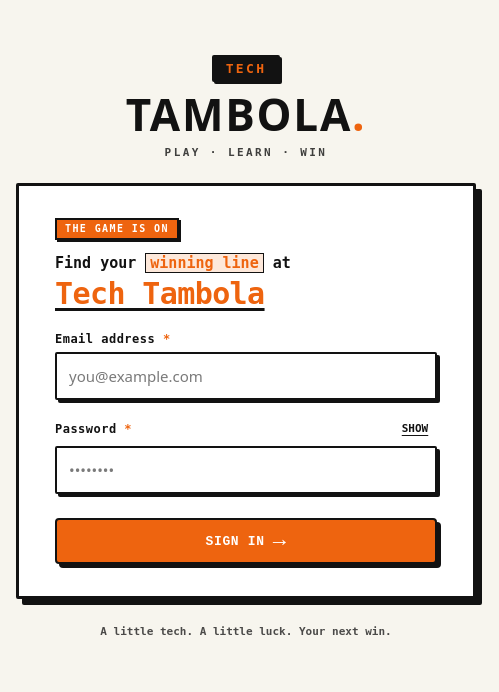
Test: LoginPage › shows a connection error when sign in cannot reach the server
In the field labelled "Email address *": (246, 376) x1=55 y1=352 x2=437 y2=400, type "attendee@example.test"
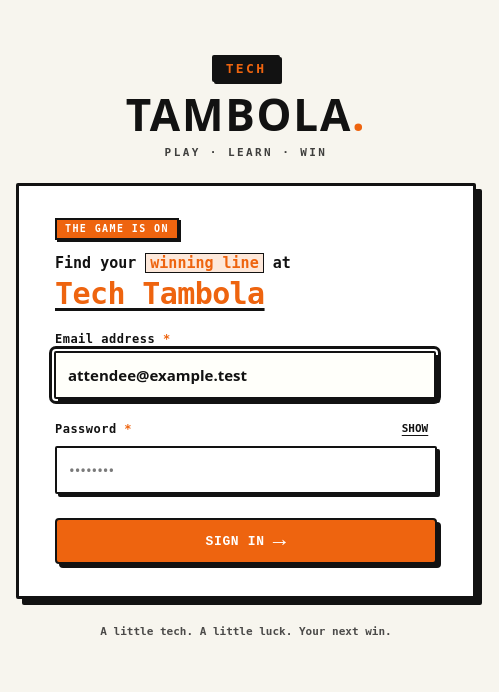
In the password field labelled "Password *": (246, 470) x1=55 y1=446 x2=437 y2=494, type "password"
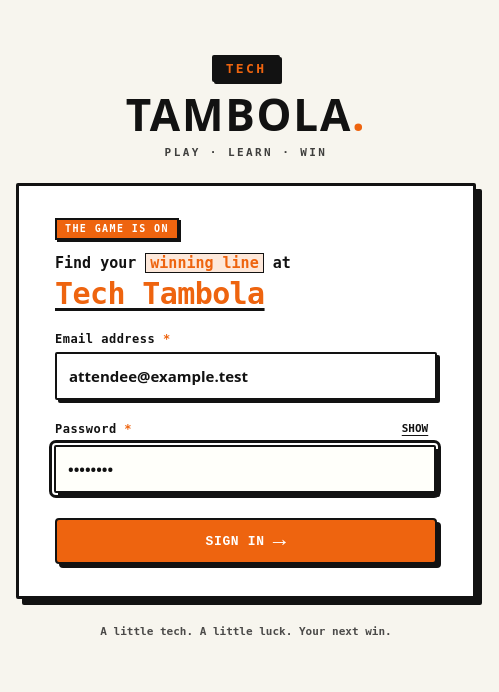
Click the button "Sign in →": click(246, 541) x1=55 y1=518 x2=437 y2=564
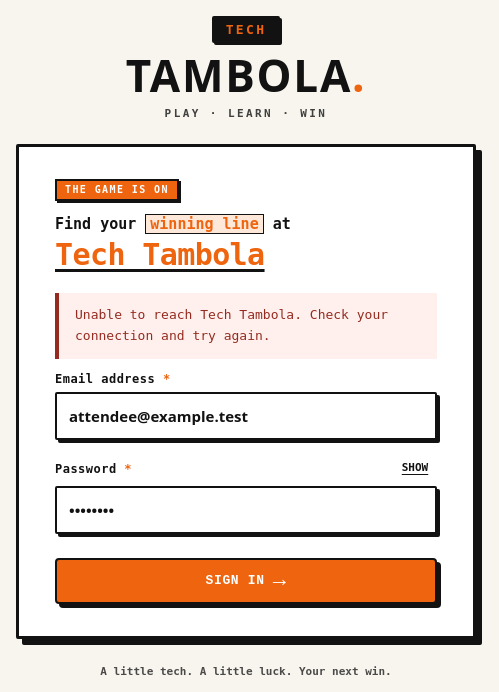
Expected: the message shows "Unable to reach Tech Tambola", x1=75 y1=307 x2=388 y2=343
